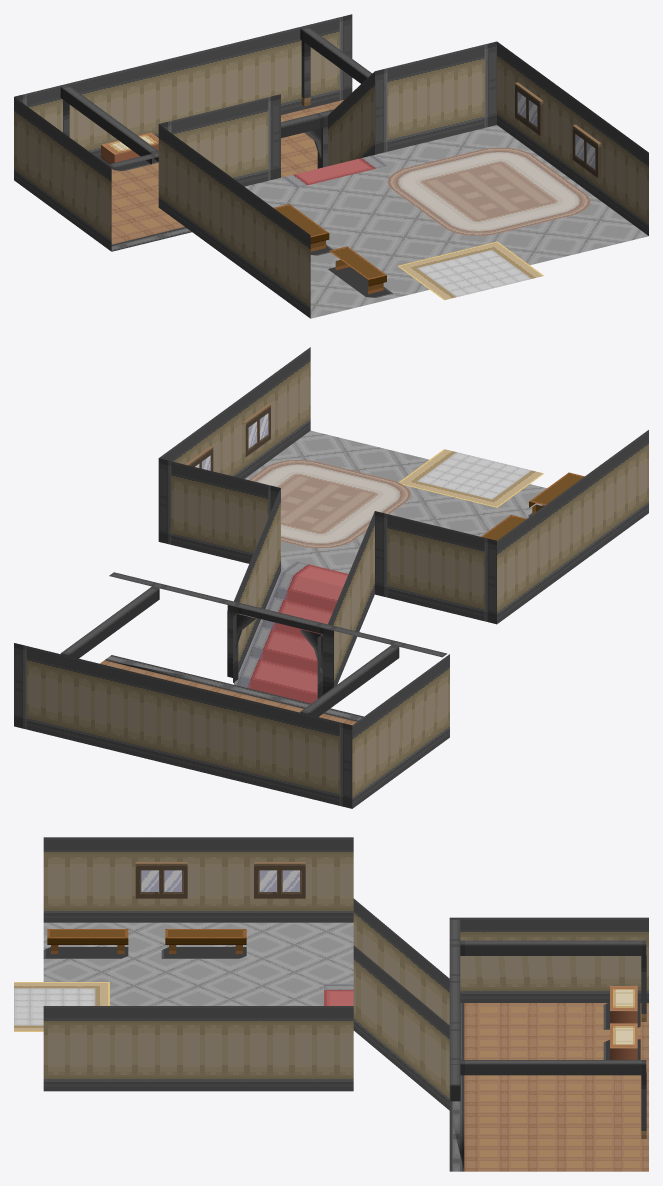
The model's file is HOTEL-B1-1.obj.
The picture shows the model from 3 angles, top to bottom: view 1: azimuth 30°, elevation 25°; view 2: azimuth 150°, elevation 25°; view 3: azimuth 270°, elevation 25°; orthographic projection. The views are drawn at different scales.
Visible parts, largest first — view 1: Indoor_All_v2_06; view 2: Indoor_All_v2_06; view 3: Indoor_All_v2_06.
Boxes of the visible parts, left/top/right/bottom form: Indoor_All_v2_06: left=14, top=14, right=648, bottom=318; Indoor_All_v2_06: left=14, top=347, right=648, bottom=808; Indoor_All_v2_06: left=14, top=837, right=648, bottom=1171.
Size of the model in its own units: 216 by 99 by 344.
